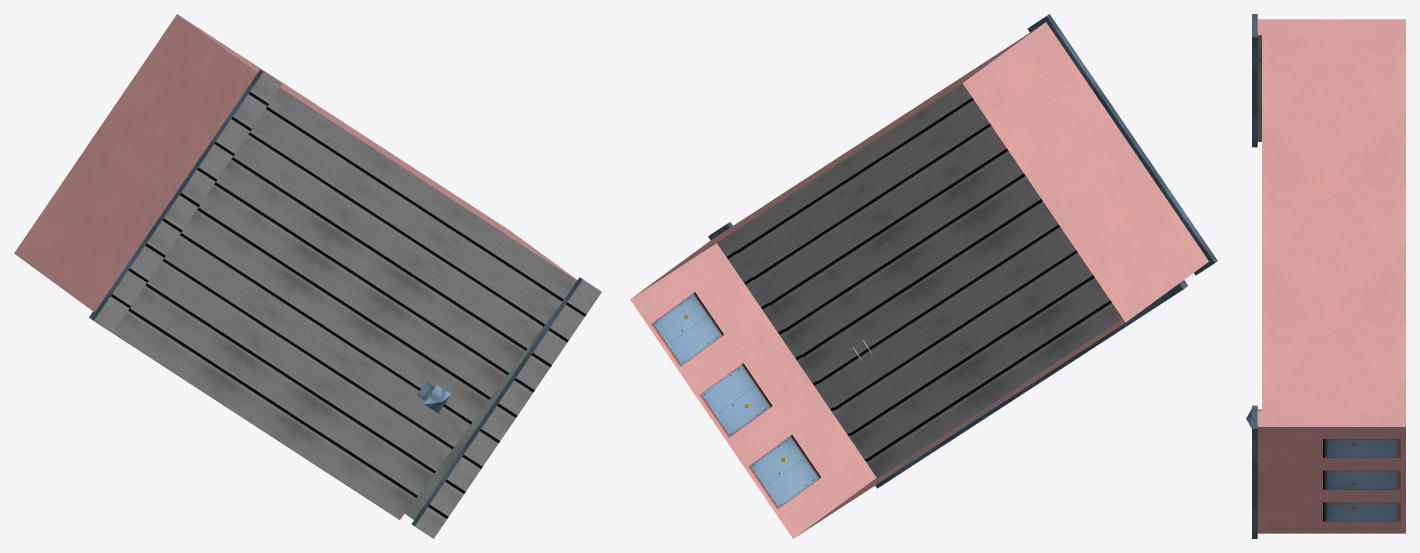
Rendered from Estonia8a.obj.
3 views of the same model, side by side, from view 1: azimuth 30°, elevation 25°; view 2: azimuth 150°, elevation 25°; view 3: azimuth 270°, elevation 25° (orthographic). The views are drawn at different scales.
Parts seen in each view (by area): view 1: Estoinia8a; view 2: Estoinia8a; view 3: Estoinia8a.
Boxes of the visible parts, left/top/right/bottom form: Estoinia8a: left=14, top=14, right=601, bottom=538; Estoinia8a: left=630, top=14, right=1217, bottom=538; Estoinia8a: left=1246, top=14, right=1405, bottom=538.
Size of the model in its own units: 19.08 by 18.31 by 5.88.
